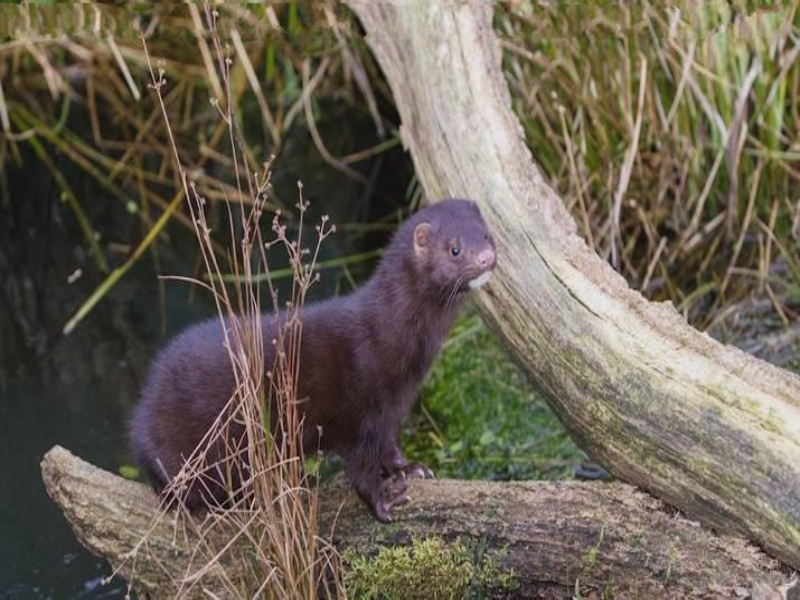minkish: (128, 196, 497, 523)
